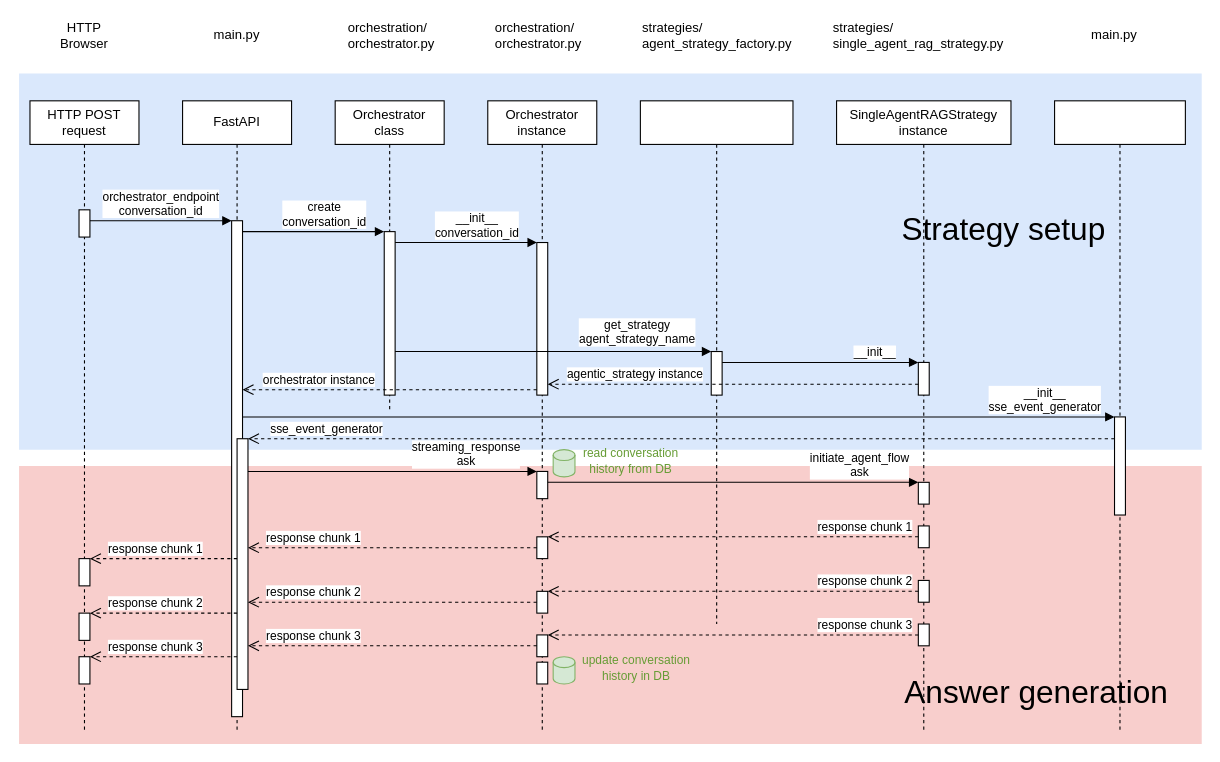
Image size: 1220x762. Some labels were removed from this diagram. Each missing label, with the centre of its shape:
"AgentStrategyFactory class" belongs at [716,362].
"StreamingResponse instance" belongs at [1119,416].
